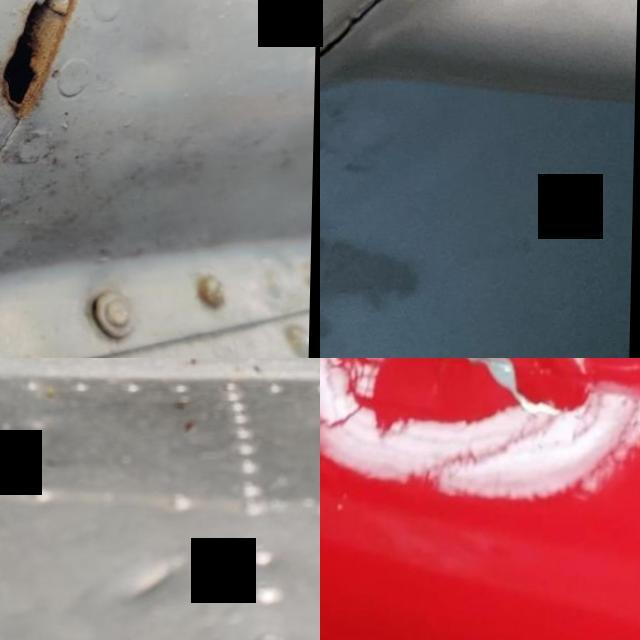Crack: (320, 358, 640, 462), (0, 0, 88, 143), (320, 0, 391, 122)
Dent: (89, 523, 218, 640)
